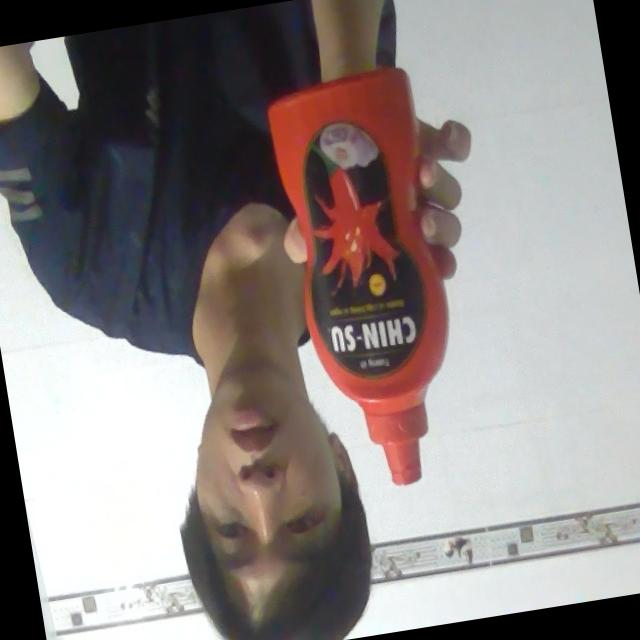tuong ot chinsu: (250, 66, 486, 505)
